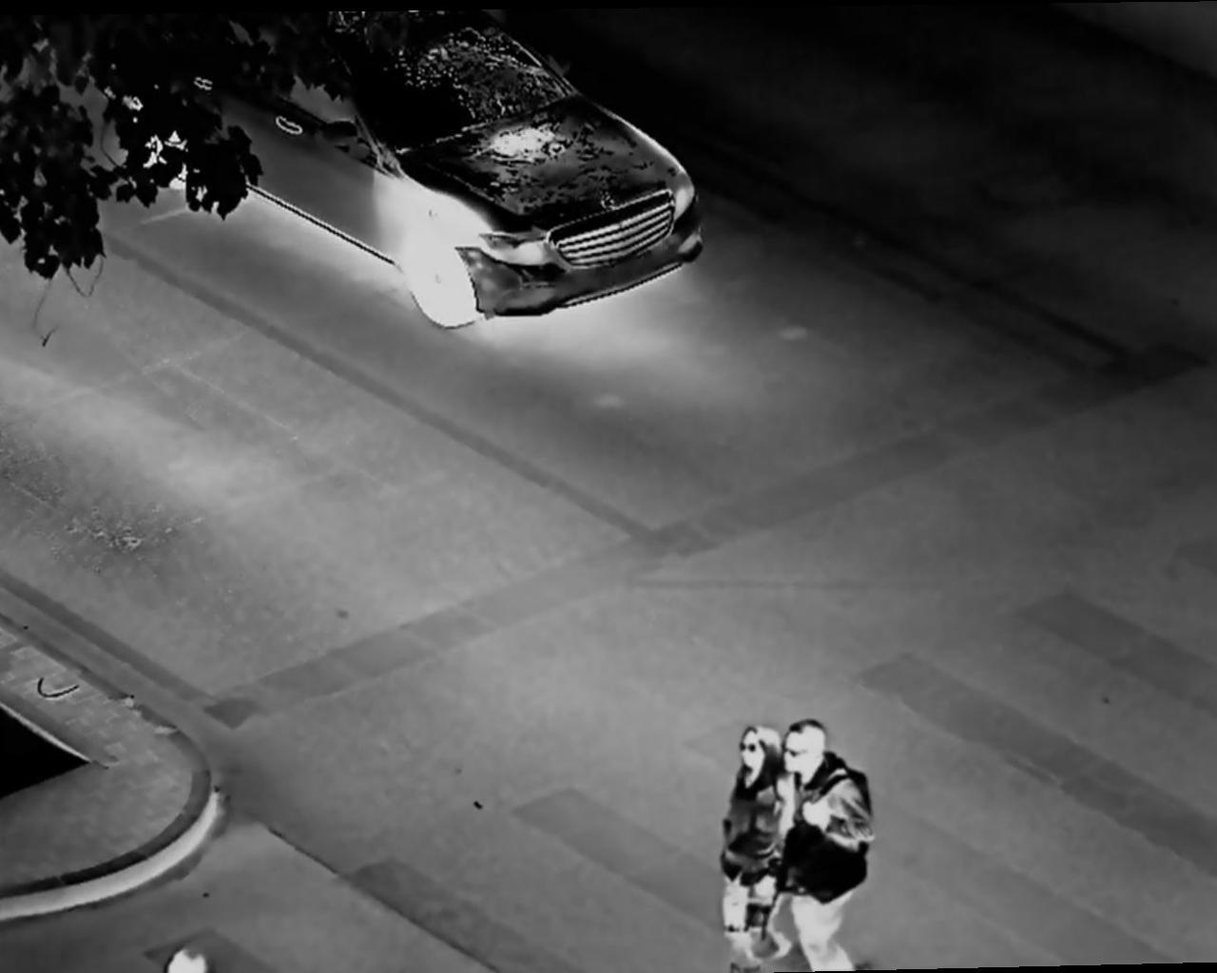person: (773, 723, 891, 973), (717, 725, 790, 958)
